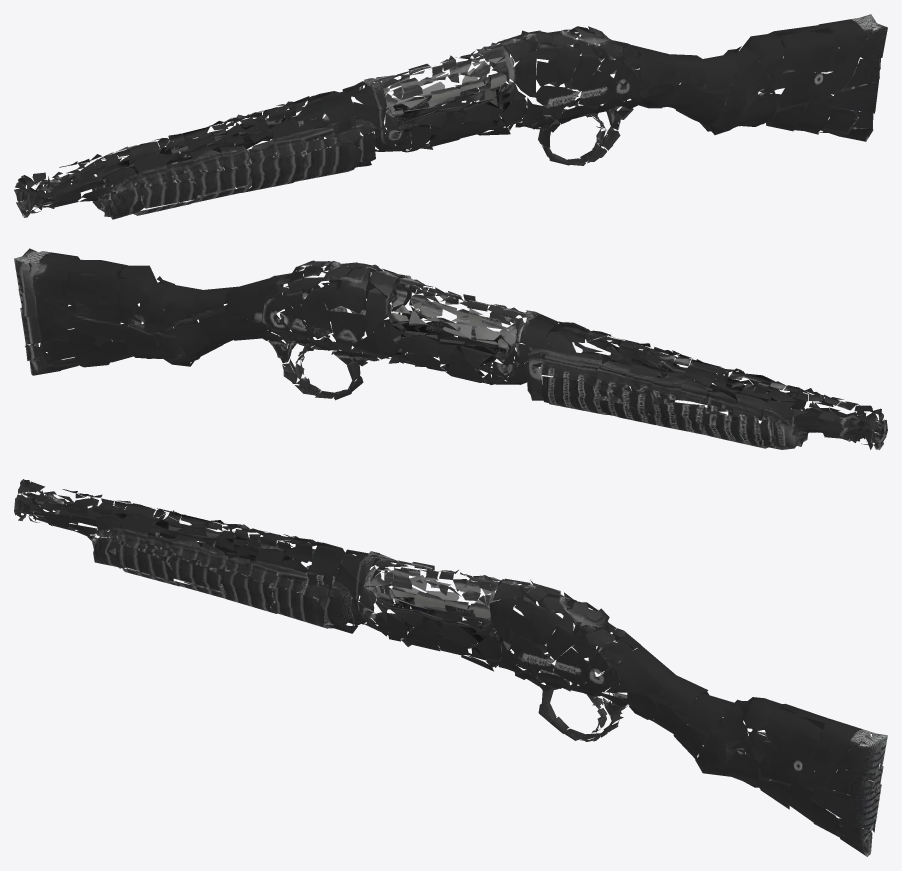
File: av-tufegi.glb
3 views of the same model, one above another, from view 1: azimuth 30°, elevation 25°; view 2: azimuth 150°, elevation 25°; view 3: azimuth 330°, elevation 25° (orthographic).
Parts seen in each view (by area): view 1: Mesh_0; view 2: Mesh_0; view 3: Mesh_0.
Boxes of the visible parts, x1,y1,x2,y2 form: Mesh_0: (14,14,887,219); Mesh_0: (14,248,887,450); Mesh_0: (14,479,887,856).
Size of the model in its own units: 1.9 by 0.4047 by 0.1445.
1 material, 1 textured.
